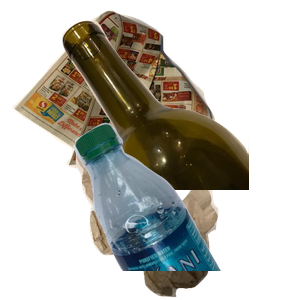glass: (60, 18, 300, 198)
paper: (10, 10, 217, 189)
plastic: (71, 120, 300, 300)
trash: (73, 147, 300, 300)
